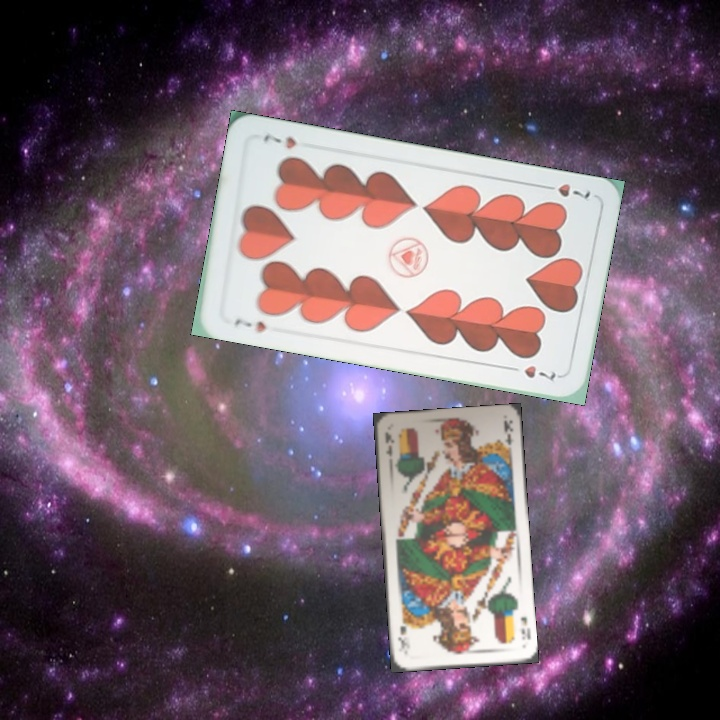EK: (381, 428, 396, 460), (517, 613, 533, 642)
H7: (537, 179, 593, 202), (230, 314, 269, 336)
